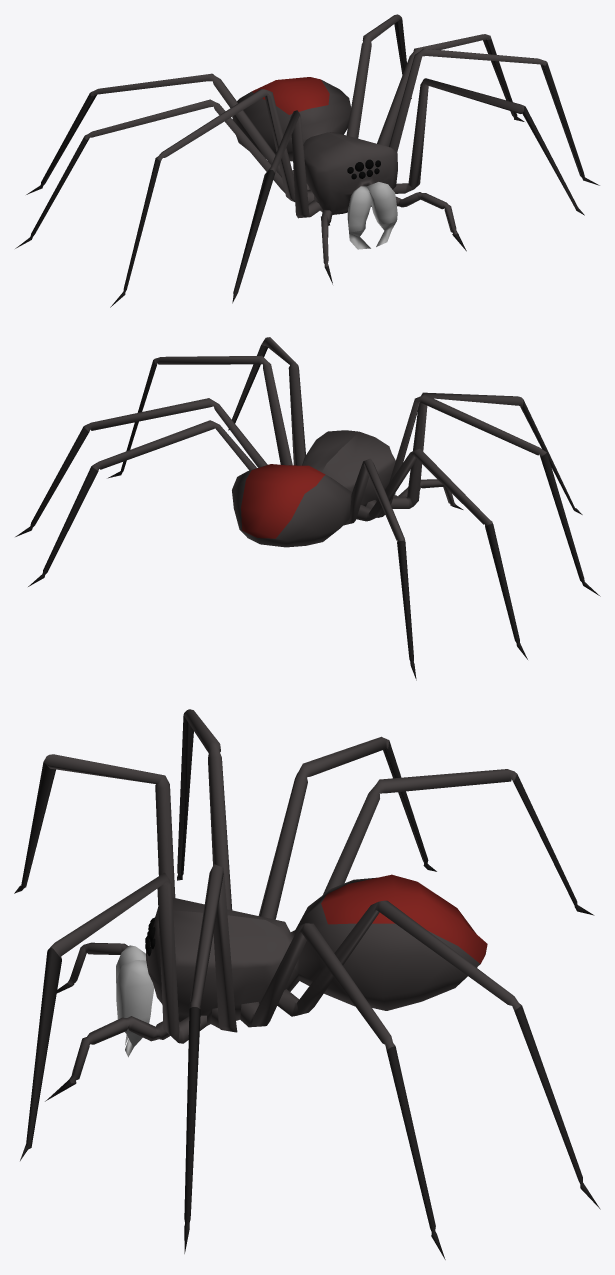
Rendered from Spider.fbx.
3 renders of one model, top to bottom at view 1: azimuth 30°, elevation 25°; view 2: azimuth 150°, elevation 25°; view 3: azimuth 270°, elevation 25°, orthographic. The views are drawn at different scales.
Parts seen in each view (by area): view 1: polySurface43; view 2: polySurface43; view 3: polySurface43.
Boxes of the visible parts, bbox=[...] form: polySurface43: bbox=[15, 14, 599, 307]; polySurface43: bbox=[15, 337, 600, 680]; polySurface43: bbox=[14, 709, 600, 1259].
Size of the model in its own units: 71.34 by 22.64 by 45.52.
